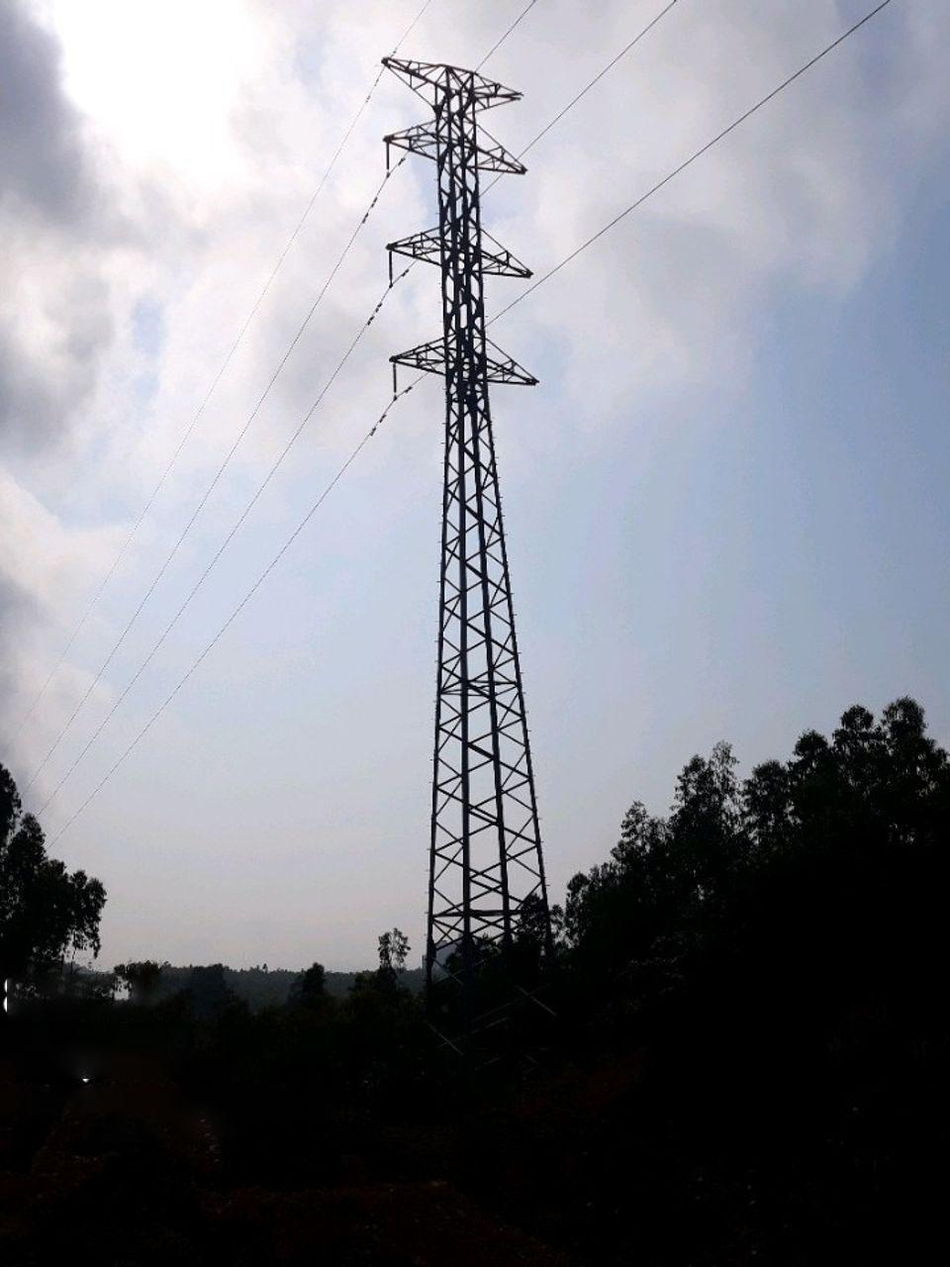tower: (355, 34, 575, 1034)
